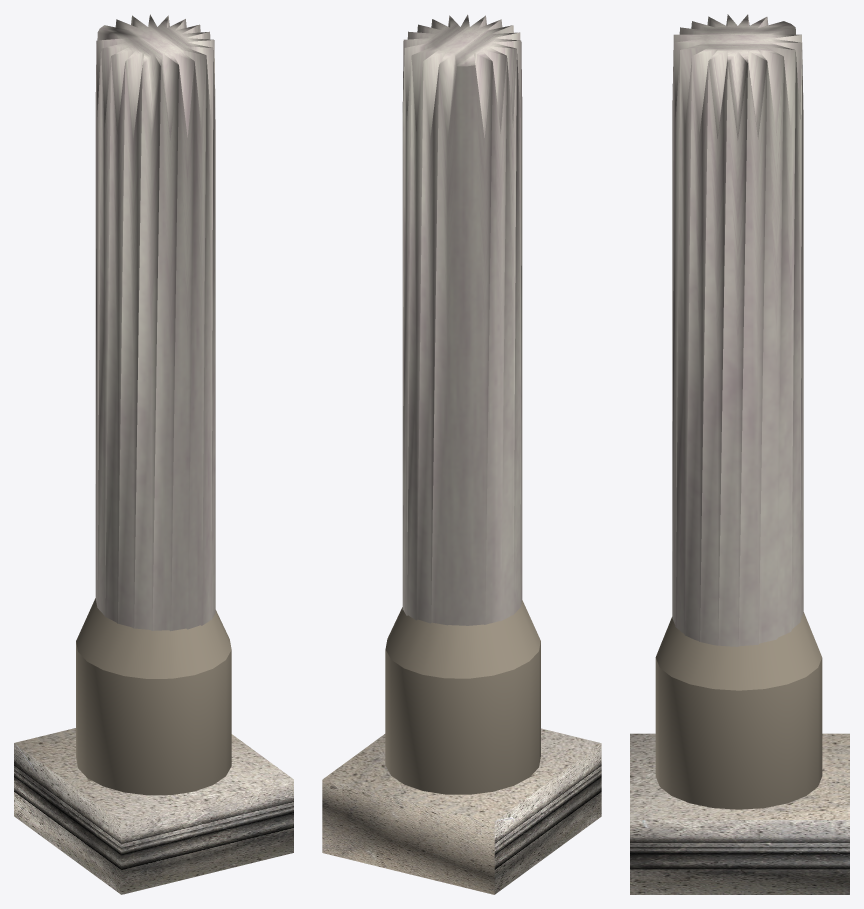
Rendered from pillar2.fbx.
3 views of the same model, side by side, from view 1: azimuth 30°, elevation 25°; view 2: azimuth 150°, elevation 25°; view 3: azimuth 270°, elevation 25° (orthographic). The views are drawn at different scales.
Visible parts, largest first — view 1: polySurface24; view 2: polySurface24; view 3: polySurface24.
Part boxes in pixels (x1,y1,x2,y2): polySurface24: [14, 14, 293, 894]; polySurface24: [322, 14, 601, 894]; polySurface24: [630, 14, 849, 894].
Size of the model in its own units: 2.17 by 9.57 by 2.34.
Materials: 3 (2 with a texture image).
